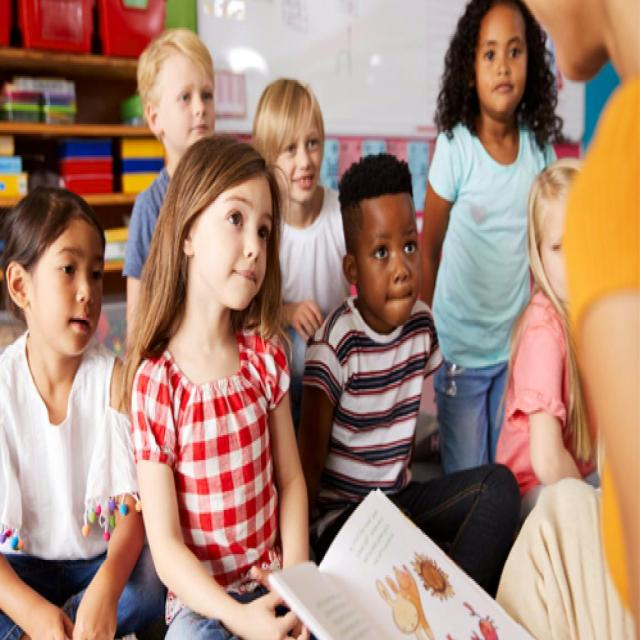adult: (497, 0, 640, 640)
child: (303, 153, 520, 592), (136, 139, 310, 640), (422, 2, 557, 481), (0, 189, 137, 640), (490, 155, 582, 509), (244, 80, 360, 359), (120, 25, 219, 331)
